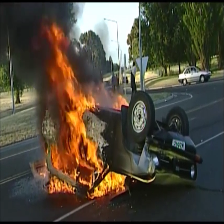fire_h: (41, 23, 109, 189), (88, 171, 127, 199), (45, 176, 75, 193)
fire_l: (112, 93, 129, 110), (40, 162, 50, 177)
